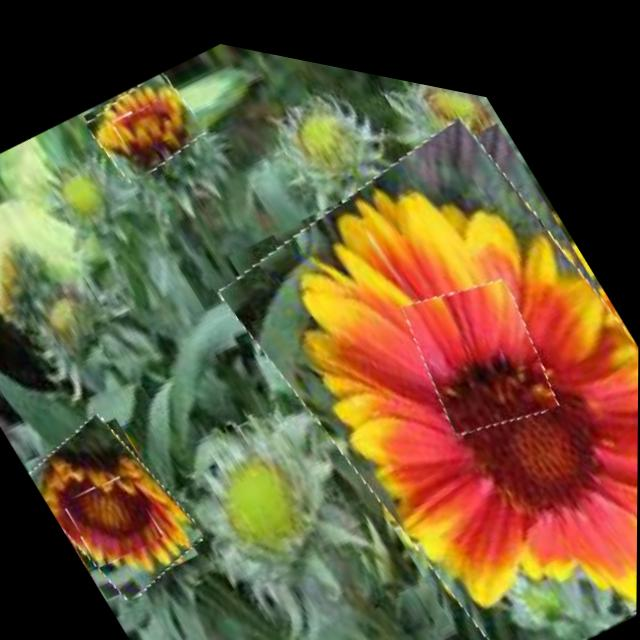Flower: (208, 45, 640, 640), (20, 387, 212, 618), (390, 231, 572, 443), (80, 49, 210, 191), (61, 454, 167, 574), (111, 89, 173, 159)
